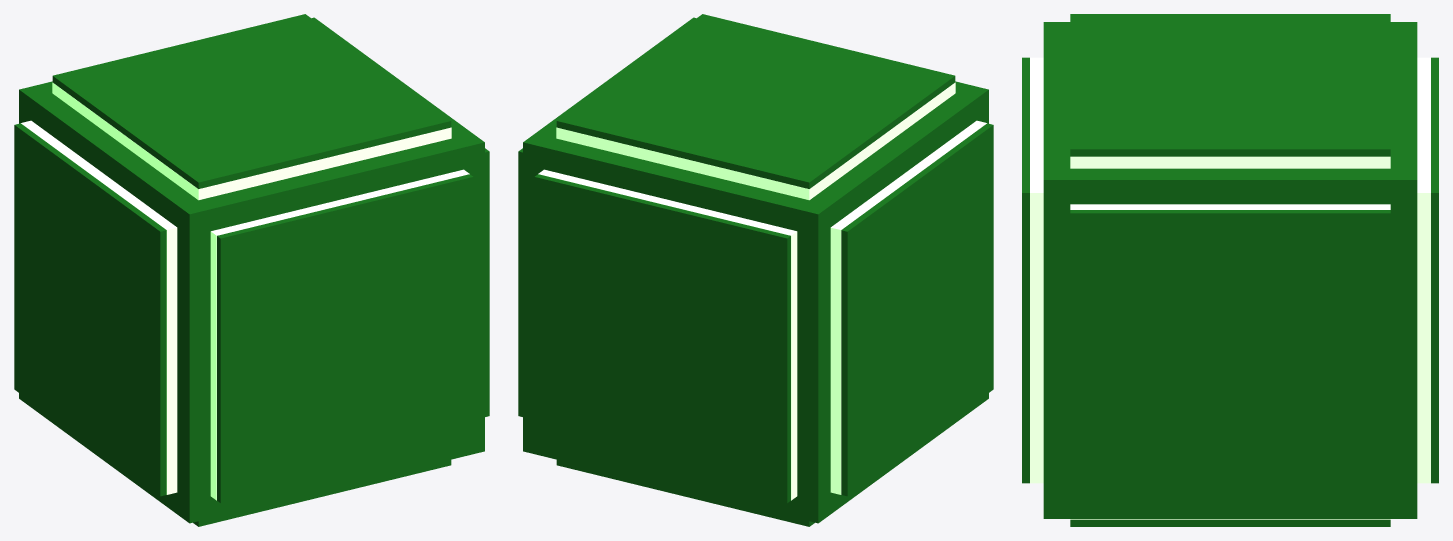
File: green_cube_3.glb
The picture shows the model from 3 angles, left to right: view 1: azimuth 30°, elevation 25°; view 2: azimuth 150°, elevation 25°; view 3: azimuth 270°, elevation 25°; orthographic projection. The views are drawn at different scales.
Visible parts, largest first — view 1: Cube.005, Cube.006, Cube.004, Cube, Cube.002, Cube.003, Cube.001; view 2: Cube.005, Cube.006, Cube.004, Cube, Cube.002, Cube.003, Cube.001; view 3: Cube.006, Cube.004, Cube, Cube.001, Cube.005, Cube.003, Cube.002.
Part boxes in pixels (left/top/right/bottom): Cube.005: left=217, top=174, right=473, bottom=502; Cube.006: left=14, top=123, right=489, bottom=496; Cube.004: left=52, top=14, right=451, bottom=526; Cube: left=19, top=17, right=484, bottom=523; Cube.002: left=21, top=120, right=177, bottom=494; Cube.003: left=52, top=82, right=451, bottom=200; Cube.001: left=210, top=169, right=469, bottom=500; Cube.005: left=534, top=174, right=790, bottom=502; Cube.006: left=518, top=123, right=993, bottom=496; Cube.004: left=556, top=14, right=955, bottom=526; Cube: left=523, top=17, right=988, bottom=523; Cube.002: left=830, top=120, right=986, bottom=494; Cube.003: left=556, top=82, right=955, bottom=200; Cube.001: left=538, top=169, right=797, bottom=500; Cube.006: left=1070, top=210, right=1390, bottom=503; Cube.004: left=1070, top=14, right=1390, bottom=526; Cube: left=1043, top=22, right=1417, bottom=518; Cube.001: left=1030, top=57, right=1430, bottom=483; Cube.005: left=1022, top=57, right=1438, bottom=483; Cube.003: left=1070, top=156, right=1390, bottom=519; Cube.002: left=1070, top=204, right=1390, bottom=209.
Bounding box in the file's own units: 0.234 × 0.234 × 0.234.
